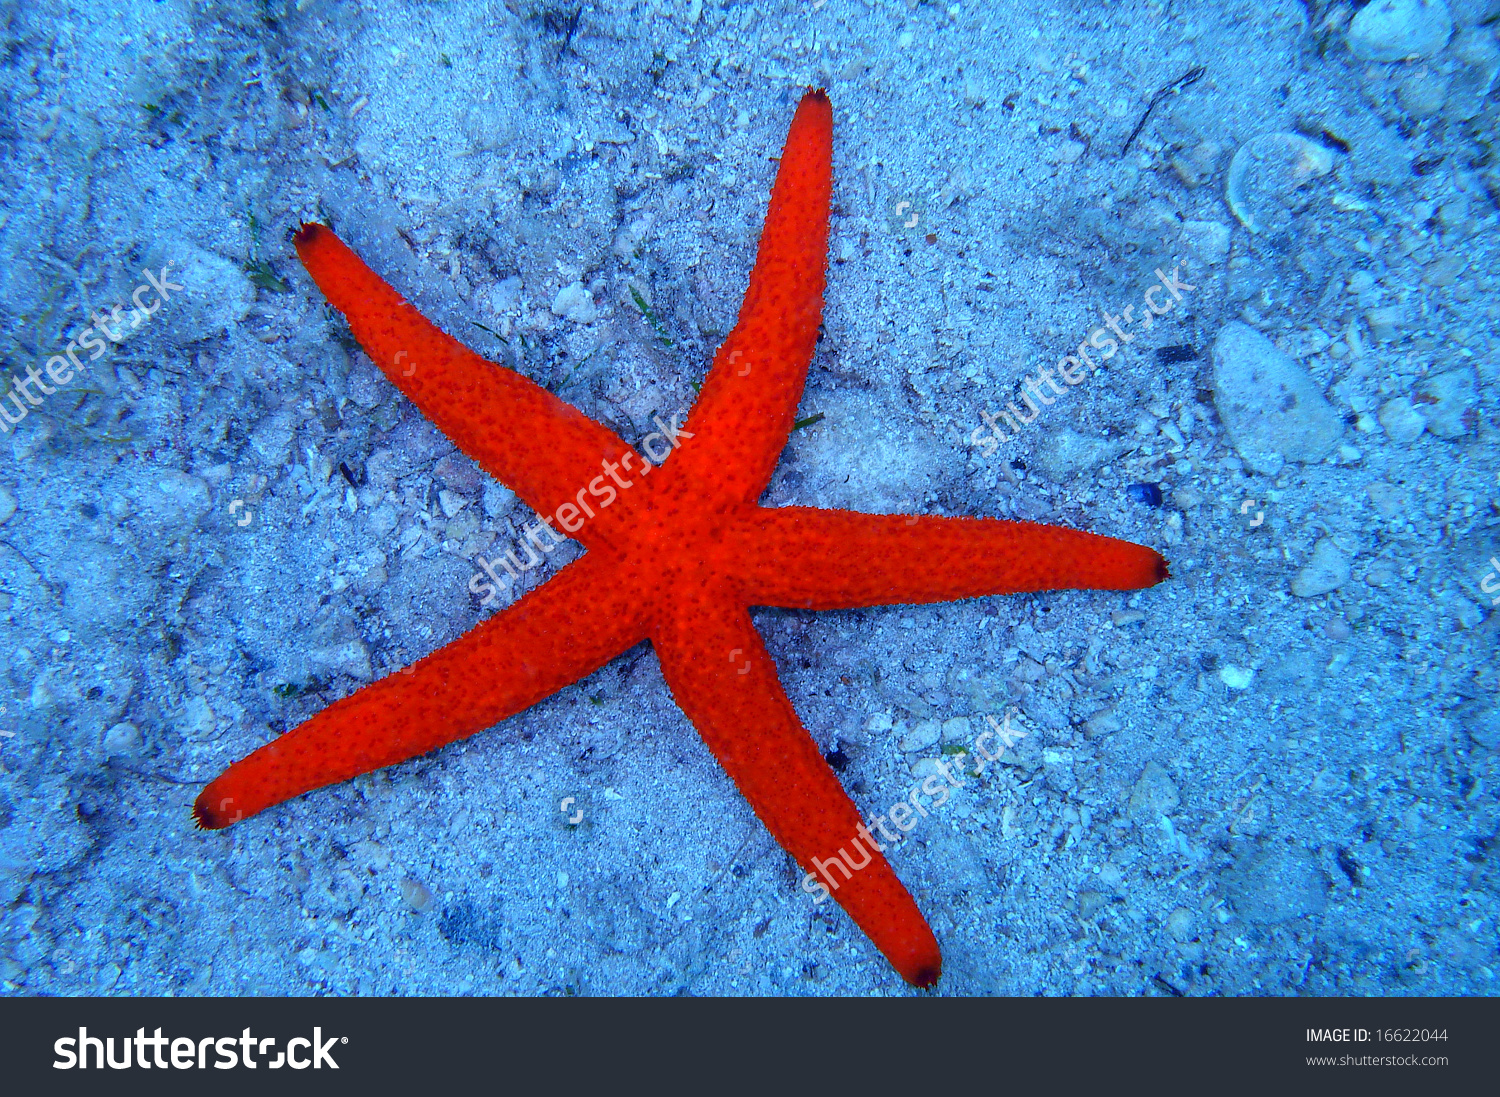starfish: (174, 92, 1194, 997)
